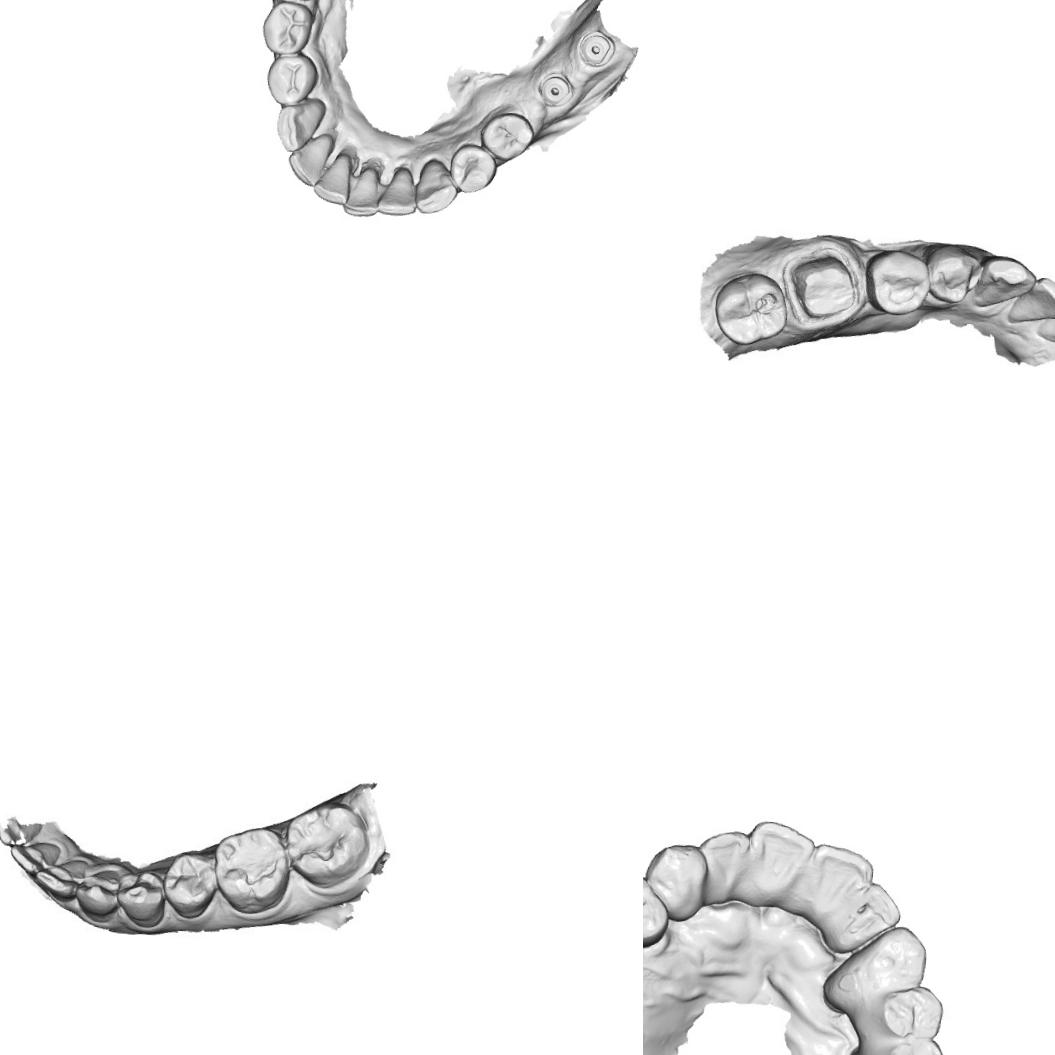canine: (854, 920, 931, 1004), (643, 839, 706, 923), (973, 248, 1037, 316), (272, 94, 327, 154), (410, 154, 460, 216), (75, 864, 122, 920)
crown: (779, 242, 864, 328)
implant: (577, 28, 616, 68), (537, 72, 573, 109)
incisor: (742, 816, 814, 904), (805, 839, 877, 920), (694, 826, 752, 908), (846, 878, 905, 938), (284, 128, 337, 190), (1005, 271, 1055, 329), (374, 162, 420, 218), (10, 832, 66, 878), (310, 150, 352, 208), (34, 856, 86, 900), (340, 164, 381, 219)
molar: (281, 796, 370, 895), (210, 822, 292, 916), (709, 268, 792, 350)
premolar: (861, 245, 932, 318), (866, 982, 946, 1044), (162, 849, 216, 920), (924, 242, 982, 306), (112, 862, 168, 928), (476, 108, 537, 164), (262, 51, 319, 108), (259, 0, 316, 57), (446, 140, 498, 196), (643, 869, 674, 949), (869, 1032, 951, 1055)
